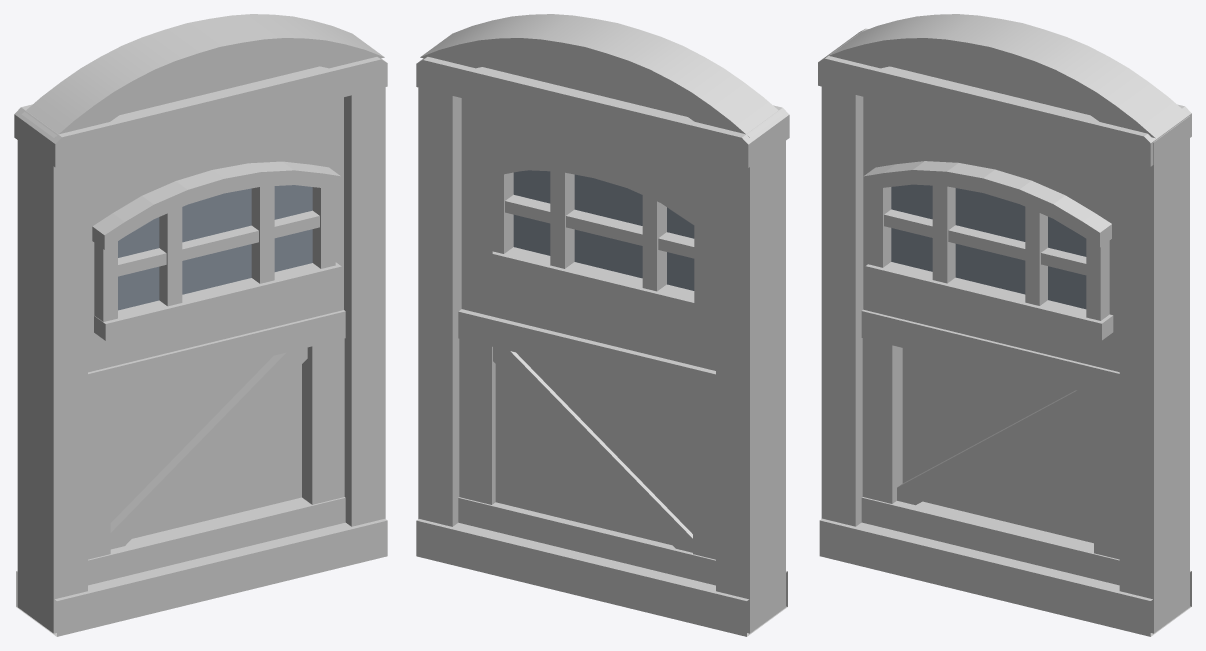
The model's file is q_door.glb.
3 renders of one model, left to right at view 1: azimuth 30°, elevation 25°; view 2: azimuth 150°, elevation 25°; view 3: azimuth 330°, elevation 25°, orthographic.
Parts seen in each view (by area): view 1: Door_1_Round.001, Glow; view 2: Door_1_Round.001, Glow; view 3: Door_1_Round.001, Glow.
Boxes of the visible parts, x1=… form: Door_1_Round.001: x1=14, y1=14, x2=387, y2=636; Glow: x1=118, y1=185, x2=312, y2=310; Door_1_Round.001: x1=416, y1=14, x2=789, y2=636; Glow: x1=513, y1=170, x2=694, y2=290; Door_1_Round.001: x1=818, y1=14, x2=1191, y2=636; Glow: x1=891, y1=184, x2=1086, y2=309.
Size of the model in its own units: 1.52 by 2.38 by 0.34.
